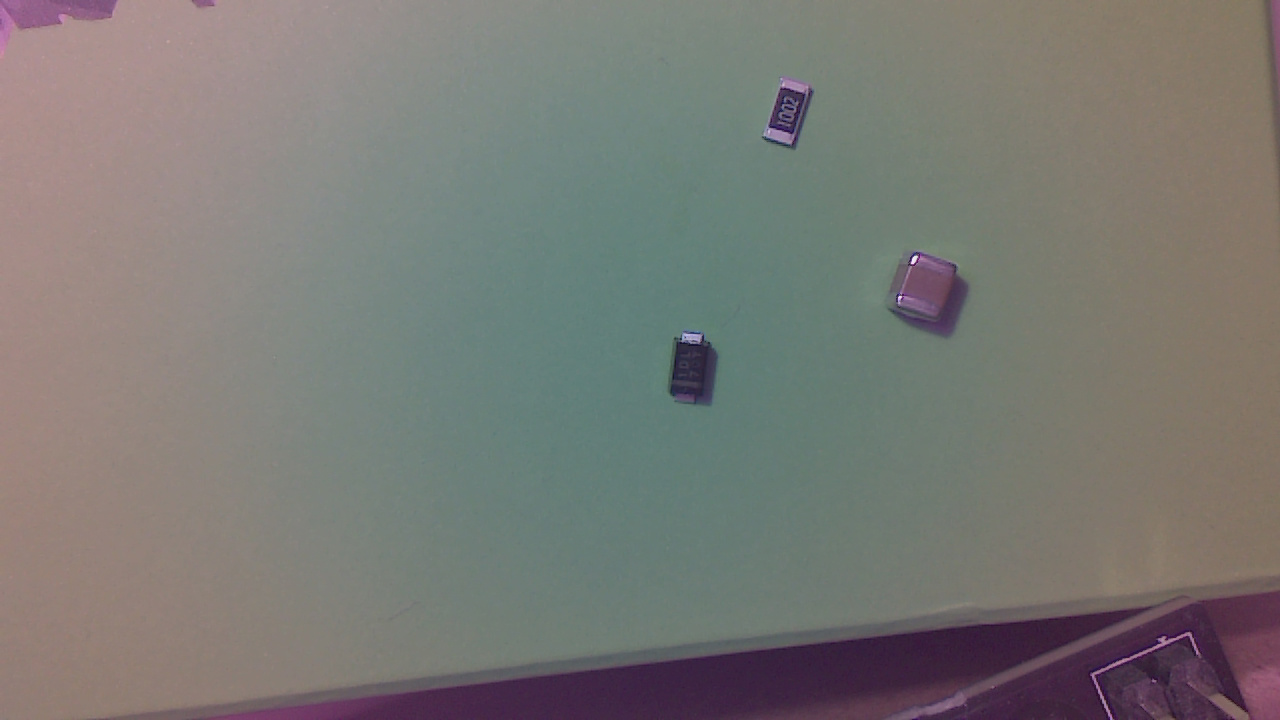Condensator: (889, 254, 961, 330)
Diode: (670, 335, 716, 409)
Resistor: (765, 82, 822, 155)
